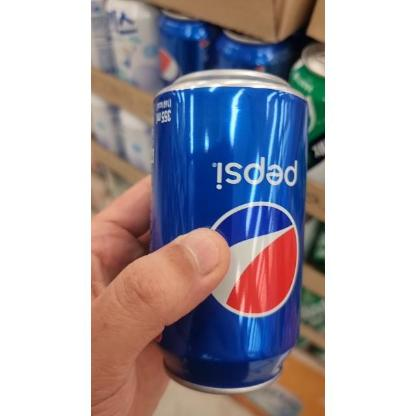Can: (150, 68, 308, 394)
